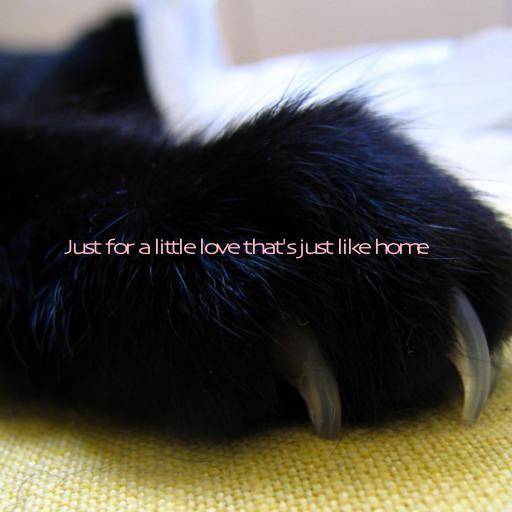Skia: (63, 238, 427, 259)
